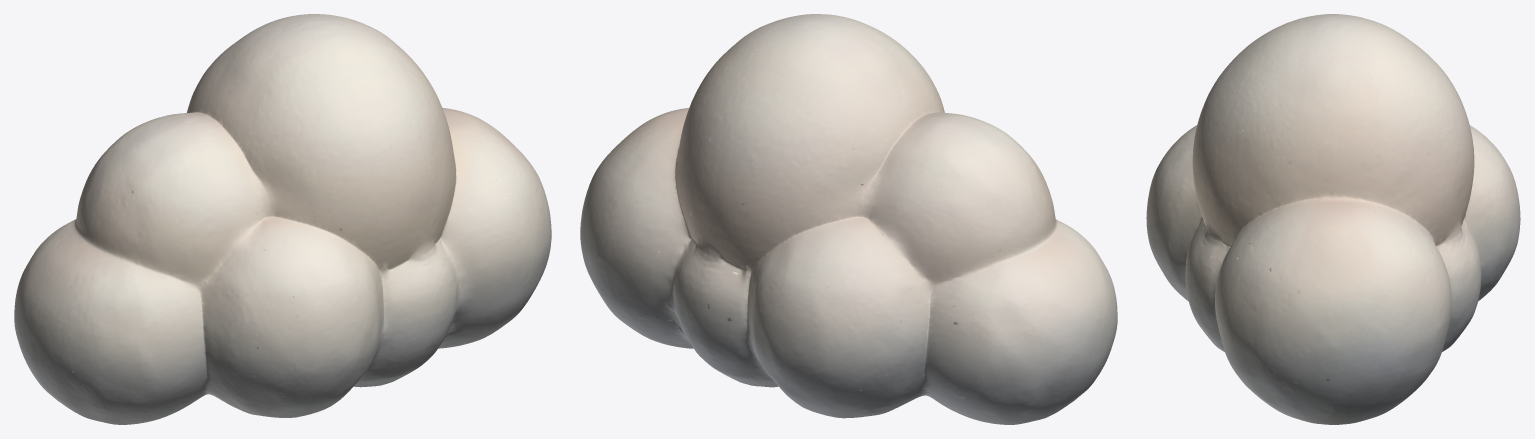
The model's file is Floating_Cloud_1031084848_texture.glb.
The picture shows the model from 3 angles, left to right: view 1: azimuth 30°, elevation 25°; view 2: azimuth 150°, elevation 25°; view 3: azimuth 270°, elevation 25°; orthographic projection. The views are drawn at different scales.
Bounding box in the file's own units: 1.9 × 1.23 × 1.26.
1 material, 1 textured.
